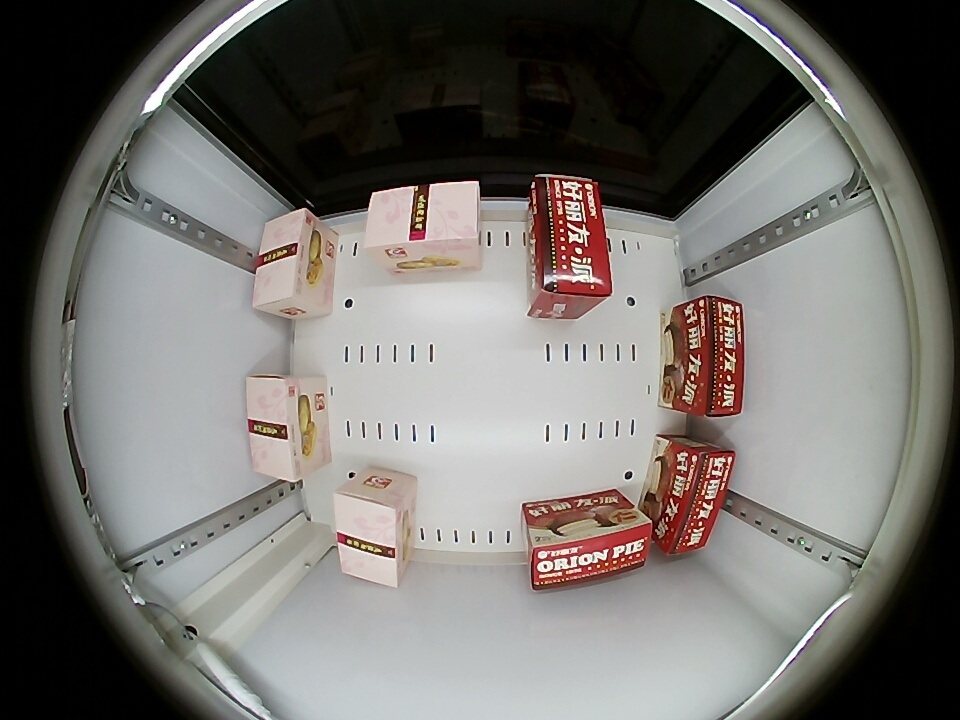haoliyou: (529, 173, 612, 313), (528, 503, 651, 591), (653, 439, 736, 556), (671, 296, 745, 418)
rousongbing: (365, 180, 480, 273), (334, 478, 413, 589), (246, 374, 323, 482), (252, 208, 325, 315)
